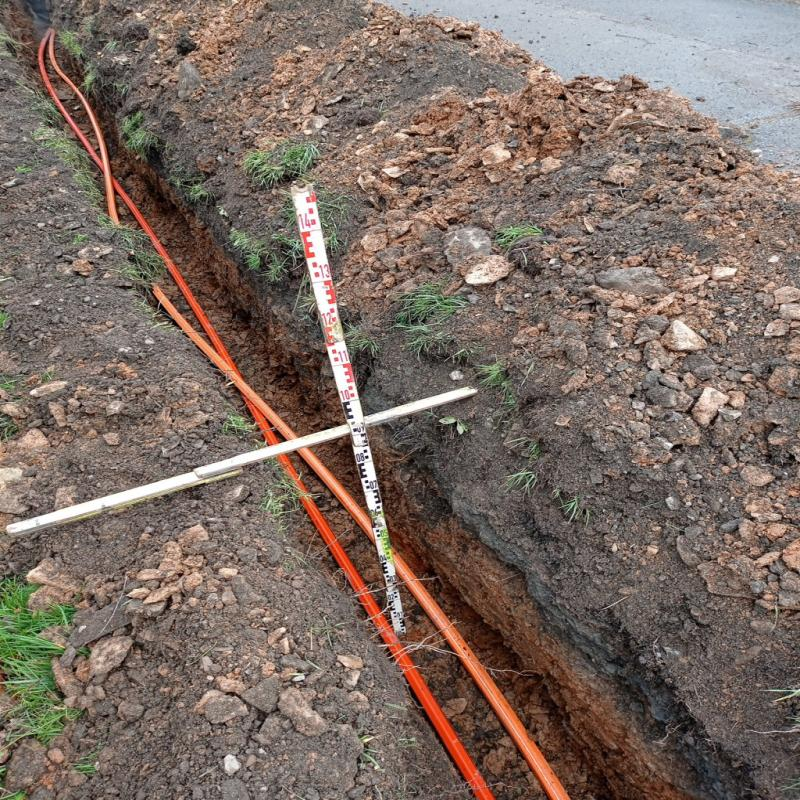Orang-Speednetrohrchen: (144, 230, 572, 800)
